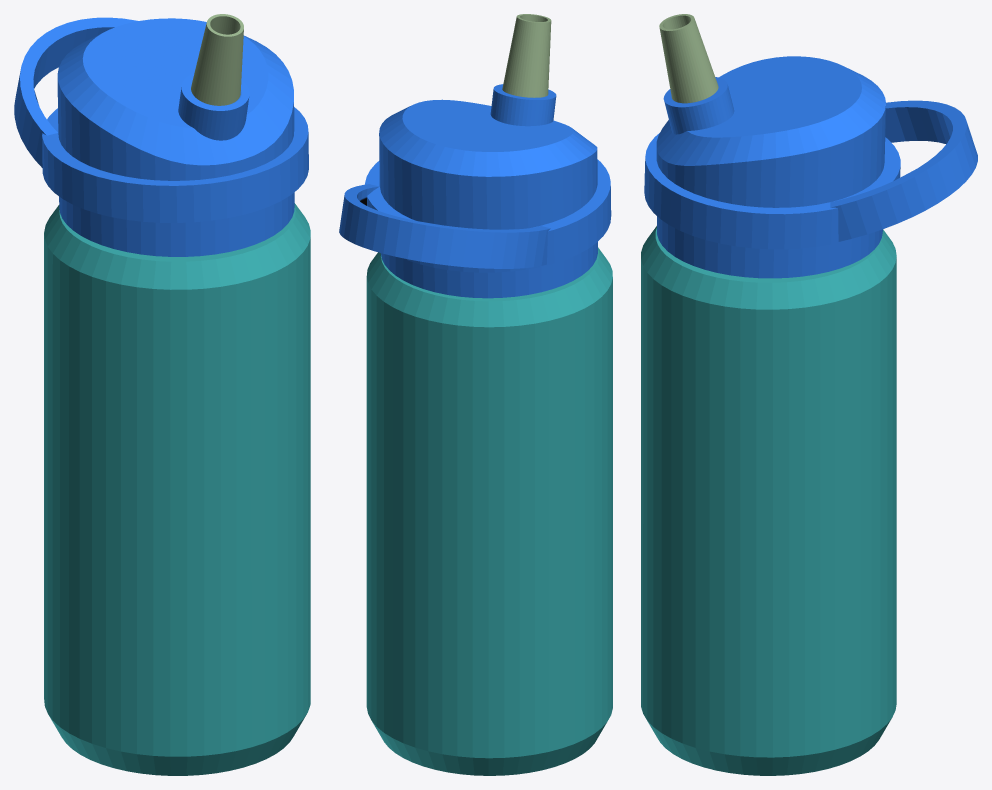
Rendered from WaterBottle.fbx.
The picture shows the model from 3 angles, left to right: view 1: azimuth 30°, elevation 25°; view 2: azimuth 150°, elevation 25°; view 3: azimuth 270°, elevation 25°; orthographic projection. The views are drawn at different scales.
Visible parts, largest first — view 1: Bottle, Bottle cap, Straw; view 2: Bottle, Bottle cap, Straw; view 3: Bottle, Bottle cap, Straw.
Part boxes in pixels (box(x1,y1,x2,y2)): Bottle: box(44, 203, 310, 775); Bottle cap: box(14, 17, 308, 256); Straw: box(191, 14, 243, 105); Bottle: box(366, 247, 612, 775); Bottle cap: box(339, 84, 611, 298); Straw: box(502, 14, 551, 97); Bottle: box(641, 226, 896, 775); Bottle cap: box(644, 56, 977, 278); Straw: box(659, 14, 718, 103).
Size of the model in its own units: 868 by 2654 by 1143.
3 materials, 3 textured.
